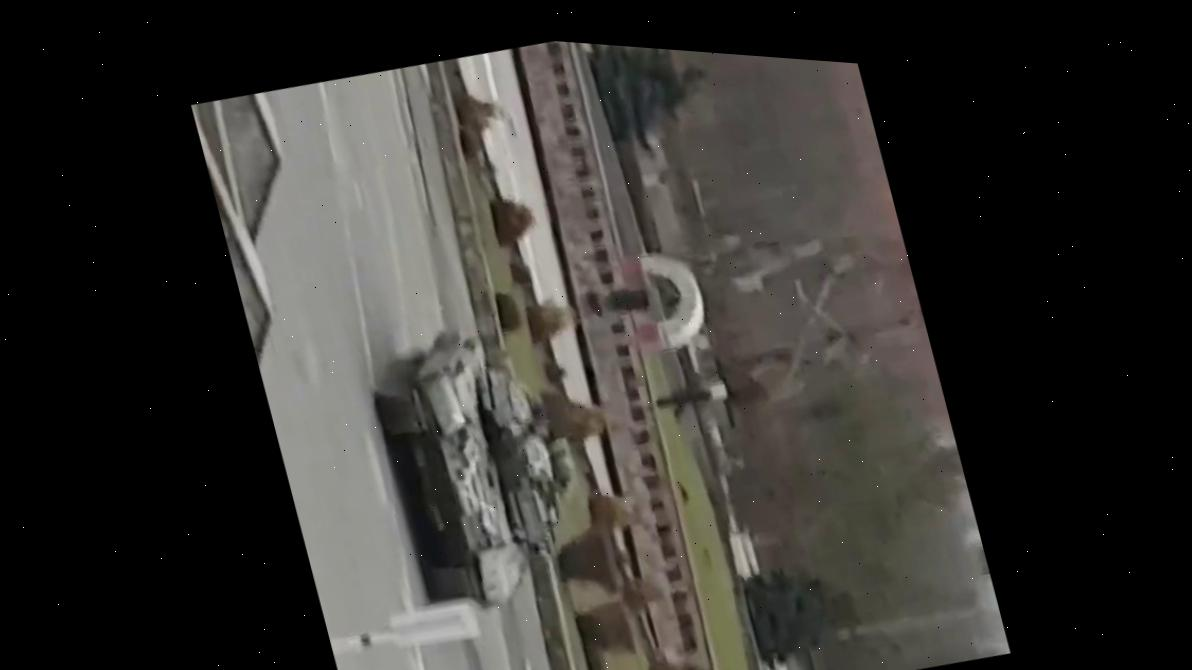tank: (358, 303, 604, 631)
